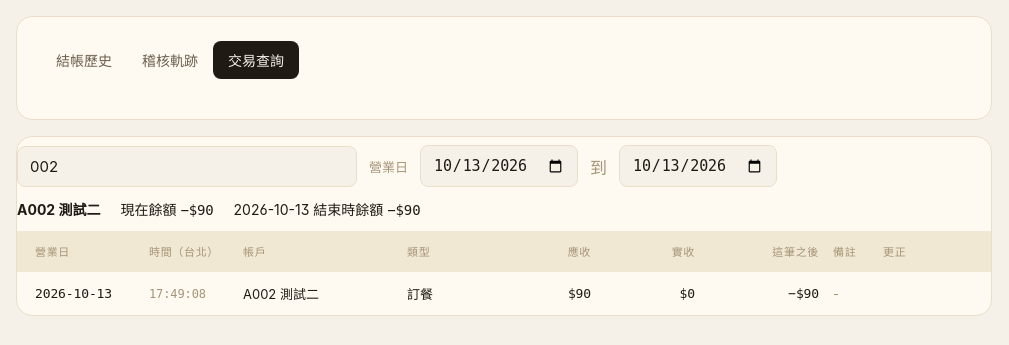
F5 交易查詢與看原單（D05） › U2a #9: 支援傳入 lookupTarget 精確鎖定帳戶與起訖區間，手動修改搜尋文字後解除鎖定
The width and height of the screenshot is (1009, 345).
Expected: the date field named "起始營業日" holds "2026-10-13", left=420, top=145, right=578, bottom=187
Expected: the date field named "結束營業日" holds "2026-10-13", left=619, top=145, right=777, bottom=187
Note: 手動修改文字框：解除精確鎖定，回到模糊查詢（多個帳戶姓名含「測試」，故非單一帳戶 note 摘要）
Replace the text in the field named "查詢帳戶" with "測試" at coordinates (187, 166), box left=17, top=146, right=357, bottom=186
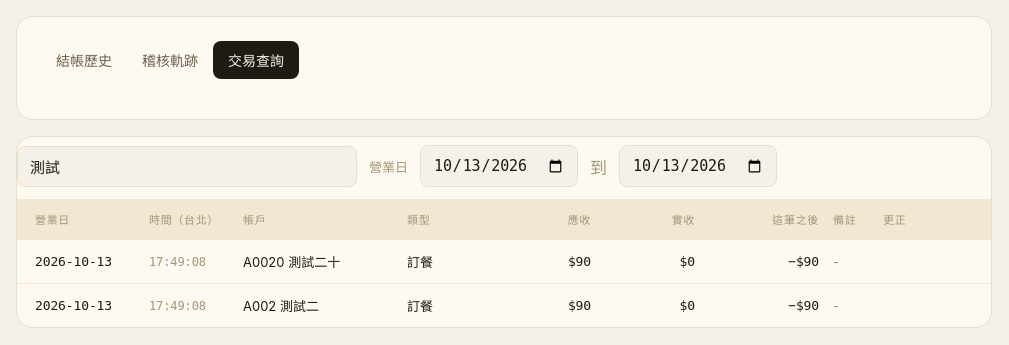
Expected: the text "A002 測試二" is shown, left=243, top=298, right=319, bottom=314
Expected: the text "A0020 測試二十" is shown, left=243, top=254, right=340, bottom=270
